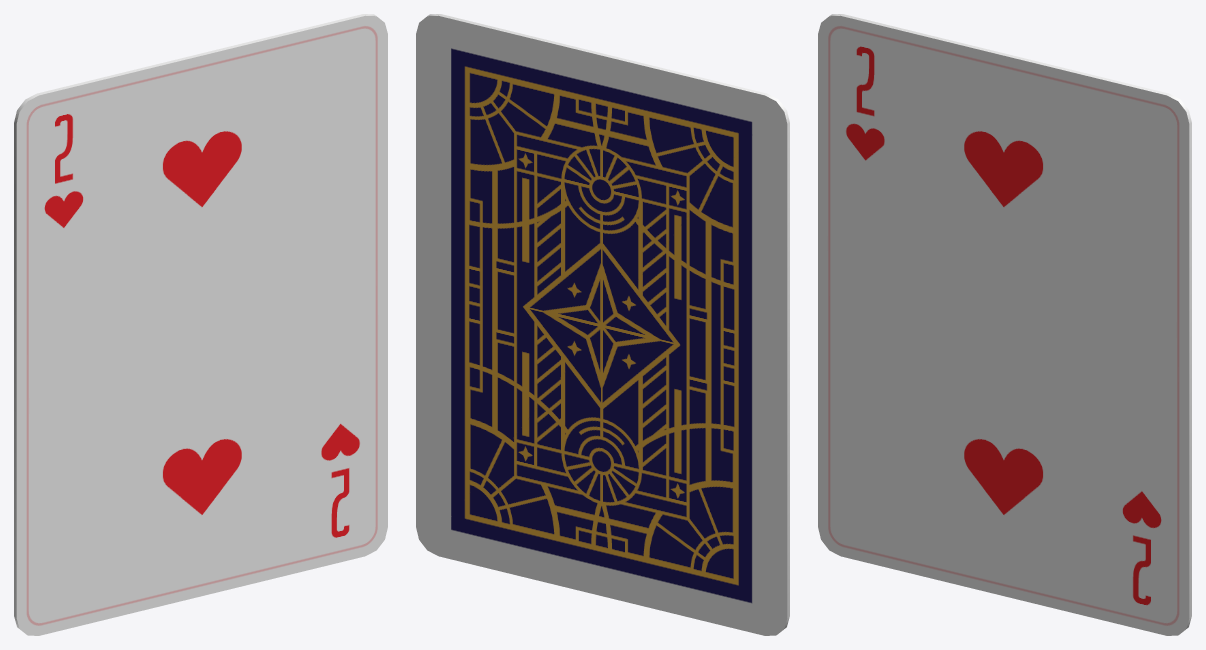
The model's file is card_hearts_two.obj.
The picture shows the model from 3 angles, left to right: view 1: azimuth 30°, elevation 25°; view 2: azimuth 150°, elevation 25°; view 3: azimuth 330°, elevation 25°; orthographic projection.
Visible parts, largest first — view 1: card_hearts_two; view 2: card_hearts_two; view 3: card_hearts_two.
Boxes of the visible parts, box(x1,y1,x2,y2) form: card_hearts_two: box(14, 14, 387, 635); card_hearts_two: box(416, 14, 789, 635); card_hearts_two: box(818, 14, 1191, 635).
Size of the model in its own units: 4.31 by 6 by 0.05.
2 materials, 2 textured.
